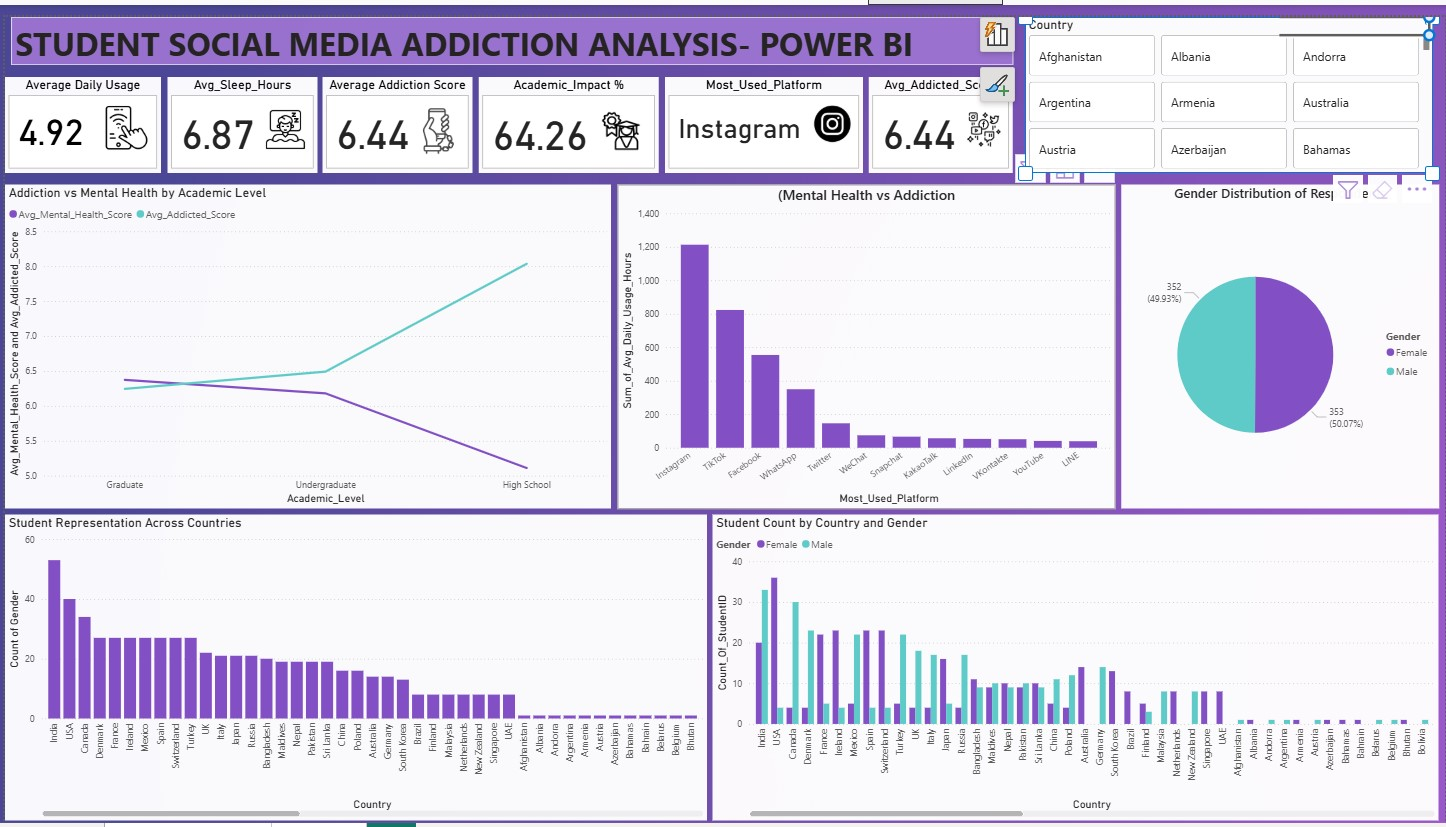

This screenshot's page, from the dashboard's own definition file:
{"tool":"powerbi","page":{"name":"Detailed Analysis","canvas":[1920,1080],"ordinal":0},"visuals":[{"type":"columnChart","title":"Student Representation Across Countries","fields":{"Y":["CountNonNull(Students Social Media Addiction.Gender)"],"Category":["Students Social Media Addiction.Country"]},"box":[0,680,944,392],"z":0},{"type":"pieChart","title":"Gender Distribution of Respondents","fields":{"Category":["Students Social Media Addiction.Gender"],"Y":["Students Social Media Addiction.Count_Of_StudentID"]},"box":[1496,256,416,416],"z":2000},{"type":"cardVisual","title":"Average Addiction Score","fields":{"Data":["Students Social Media Addiction.Avg_Addicted_Score"]},"box":[424,96,200,152],"z":3000},{"type":"cardVisual","title":"Avg_Sleep_Hours","fields":{"Data":["Students Social Media Addiction.Avg_Sleep_Hours"]},"box":[216,96,200,152],"z":4000},{"type":"cardVisual","title":"Academic_Impact %","fields":{"Data":["Students Social Media Addiction.Academic_Impact_Percentage"]},"box":[632,96,240,152],"z":5000},{"type":"cardVisual","title":"Avg_Addicted_Score","fields":{"Data":["Students Social Media Addiction.Avg_Addicted_Score"]},"box":[1152,96,192,152],"z":6000},{"type":"cardVisual","title":"Most_Used_Platform","fields":{"Data":["Students Social Media Addiction.Top_Social_Media_Platform"]},"box":[880,96,264,152],"z":7000},{"type":"clusteredColumnChart","title":"Student Count by Country and Gender","fields":{"Category":["Students Social Media Addiction.Country"],"Y":["Students Social Media Addiction.Count_Of_StudentID"],"Series":["Students Social Media Addiction.Gender"]},"box":[952,680,960,392],"z":8000},{"type":"textbox","box":[0,0,1648,64],"z":9000},{"type":"columnChart","title":"(Mental Health vs Addiction","fields":{"Category":["Students Social Media Addiction.Most_Used_Platform"],"Y":["Students Social Media Addiction.Sum_of_Avg_Daily_Usage_Hours"]},"box":[832,256,656,416],"z":10000},{"type":"lineChart","title":"Addiction vs Mental Health by Academic Level","fields":{"Category":["Students Social Media Addiction.Academic_Level"],"Y":["Students Social Media Addiction.Avg_Mental_Health_Score","Students Social Media Addiction.Avg_Addicted_Score"]},"box":[0,256,824,416],"z":11000},{"type":"cardVisual","title":"Average Daily Usage","fields":{"Data":["Students Social Media Addiction.Avg_Daily_Usage"]},"box":[0,96,208,152],"z":13000},{"type":"advancedSlicerVisual","fields":{"Values":["Students Social Media Addiction.Country"]},"box":[1352,72,560,176],"z":13001}]}

Visuals, with their boxes on the page's 1920x1080 design canvas (x1, y1, x2, y2). These are canvas units, not pixel positions in the 1446x827 screenshot, which may show the page scaled, cropped or inside an application window:
"Student Representation Across Countries" columnChart: pyautogui.locateOnScreen(0, 680, 944, 1072)
"Gender Distribution of Respondents" pieChart: pyautogui.locateOnScreen(1496, 256, 1912, 672)
"Average Addiction Score" cardVisual: pyautogui.locateOnScreen(424, 96, 624, 248)
"Avg_Sleep_Hours" cardVisual: pyautogui.locateOnScreen(216, 96, 416, 248)
"Academic_Impact %" cardVisual: pyautogui.locateOnScreen(632, 96, 872, 248)
"Avg_Addicted_Score" cardVisual: pyautogui.locateOnScreen(1152, 96, 1344, 248)
"Most_Used_Platform" cardVisual: pyautogui.locateOnScreen(880, 96, 1144, 248)
"Student Count by Country and Gender" clusteredColumnChart: pyautogui.locateOnScreen(952, 680, 1912, 1072)
textbox: pyautogui.locateOnScreen(0, 0, 1648, 64)
"(Mental Health vs Addiction" columnChart: pyautogui.locateOnScreen(832, 256, 1488, 672)
"Addiction vs Mental Health by Academic Level" lineChart: pyautogui.locateOnScreen(0, 256, 824, 672)
"Average Daily Usage" cardVisual: pyautogui.locateOnScreen(0, 96, 208, 248)
advancedSlicerVisual - Students Social Media Addiction.Country: pyautogui.locateOnScreen(1352, 72, 1912, 248)
